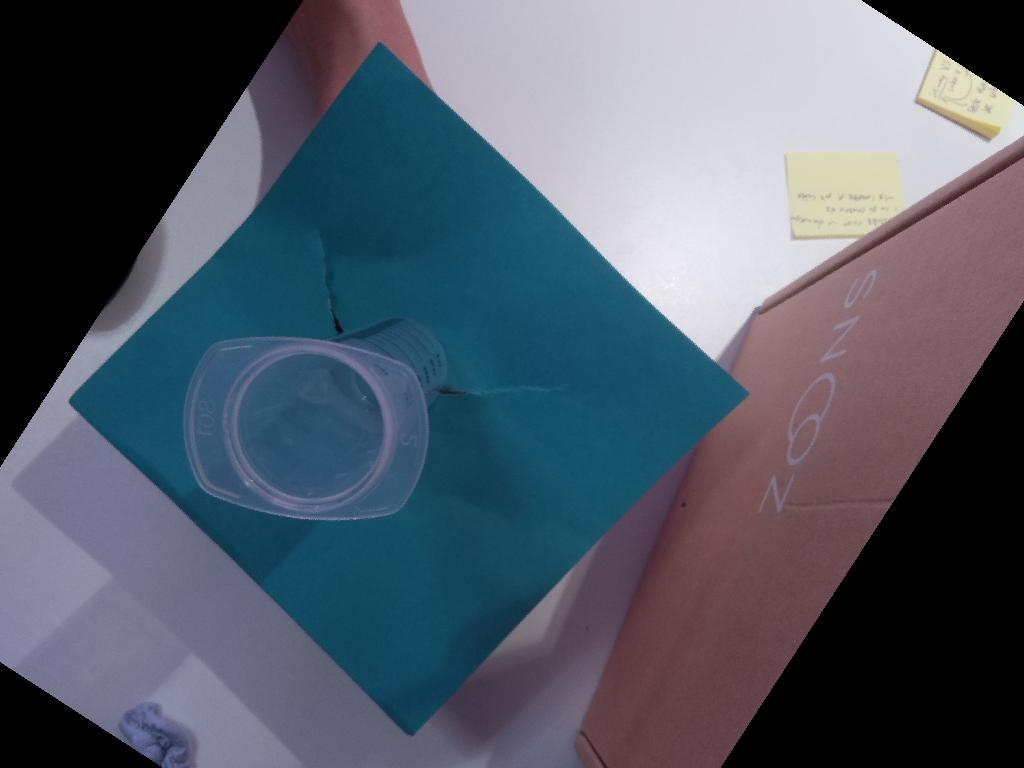clean: (181, 337, 434, 521)
